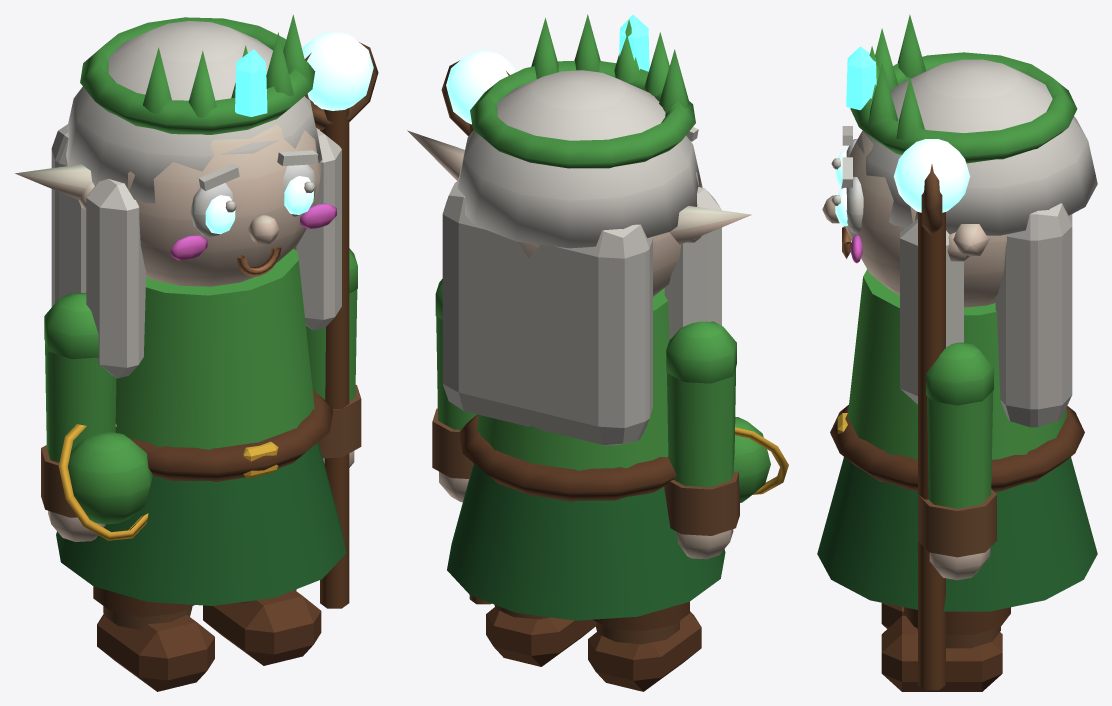
The model's file is hero_willow.glb.
The picture shows the model from 3 angles, left to right: view 1: azimuth 30°, elevation 25°; view 2: azimuth 150°, elevation 25°; view 3: azimuth 270°, elevation 25°; orthographic projection. The views are drawn at different scales.
Parts seen in each view (by area): view 1: body_t0_palette, arml_t0_palette, armr_t0_palette, legl_t0_palette, legr_t0_palette, armr_t0_glow_teal, body_t0_crystal, body_t0_glow_teal; view 2: body_t0_palette, arml_t0_palette, legl_t0_palette, armr_t0_palette, legr_t0_palette, armr_t0_glow_teal, body_t0_crystal; view 3: body_t0_palette, armr_t0_palette, legr_t0_palette, armr_t0_glow_teal, body_t0_crystal, body_t0_glow_teal.
Boxes of the visible parts, x1,y1,x2,y2 form: body_t0_palette: [15, 14, 345, 605]; arml_t0_palette: [41, 292, 152, 541]; armr_t0_palette: [305, 42, 378, 608]; legl_t0_palette: [93, 586, 214, 691]; legr_t0_palette: [203, 589, 321, 665]; armr_t0_glow_teal: [302, 31, 373, 110]; body_t0_crystal: [235, 49, 267, 116]; body_t0_glow_teal: [205, 176, 313, 234]; body_t0_palette: [407, 14, 751, 620]; arml_t0_palette: [664, 321, 788, 559]; legl_t0_palette: [588, 601, 701, 691]; armr_t0_palette: [432, 60, 509, 604]; legr_t0_palette: [486, 604, 595, 666]; armr_t0_glow_teal: [446, 50, 515, 124]; body_t0_crystal: [619, 14, 649, 71]; body_t0_palette: [817, 14, 1097, 611]; armr_t0_palette: [918, 164, 996, 690]; legr_t0_palette: [881, 607, 1010, 691]; armr_t0_glow_teal: [893, 139, 970, 212]; body_t0_crystal: [846, 46, 876, 110]; body_t0_glow_teal: [835, 151, 848, 226].
Bounding box in the file's own units: 0.3116 × 0.53 × 0.22.
